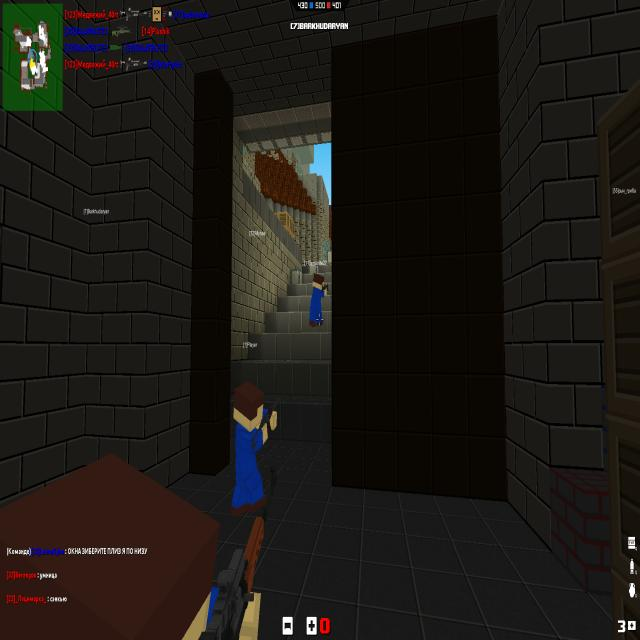player: (232, 378, 277, 515), (309, 272, 329, 330)
